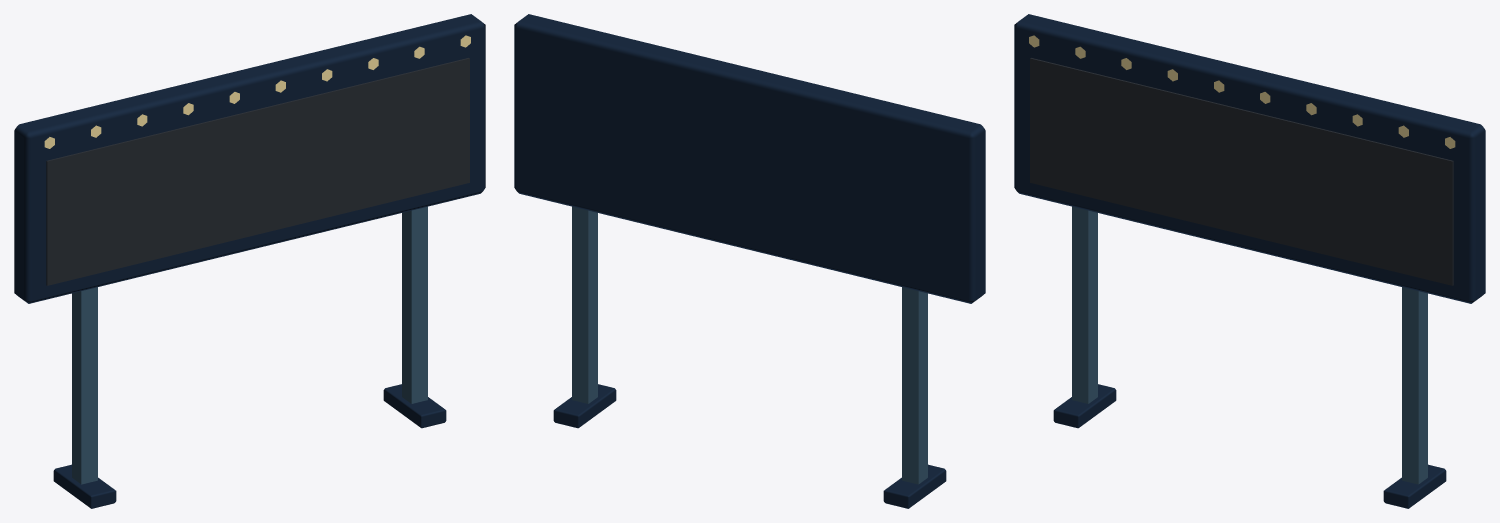
Rendered from CM_Tycoon_EventCountdown.fbx.
3 renders of one model, left to right at view 1: azimuth 30°, elevation 25°; view 2: azimuth 150°, elevation 25°; view 3: azimuth 330°, elevation 25°, orthographic.
Parts seen in each view (by area): view 1: Face, Body; view 2: Body; view 3: Face, Body.
Part boxes in pixels (left/top/right/bottom): Face: left=46, top=58, right=469, bottom=285; Body: left=14, top=14, right=485, bottom=508; Body: left=514, top=14, right=985, bottom=508; Face: left=1030, top=58, right=1453, bottom=285; Body: left=1014, top=14, right=1485, bottom=508.
Bounding box in the file's own units: 14 × 2 × 11.
Materials: 1 (1 with a texture image).
